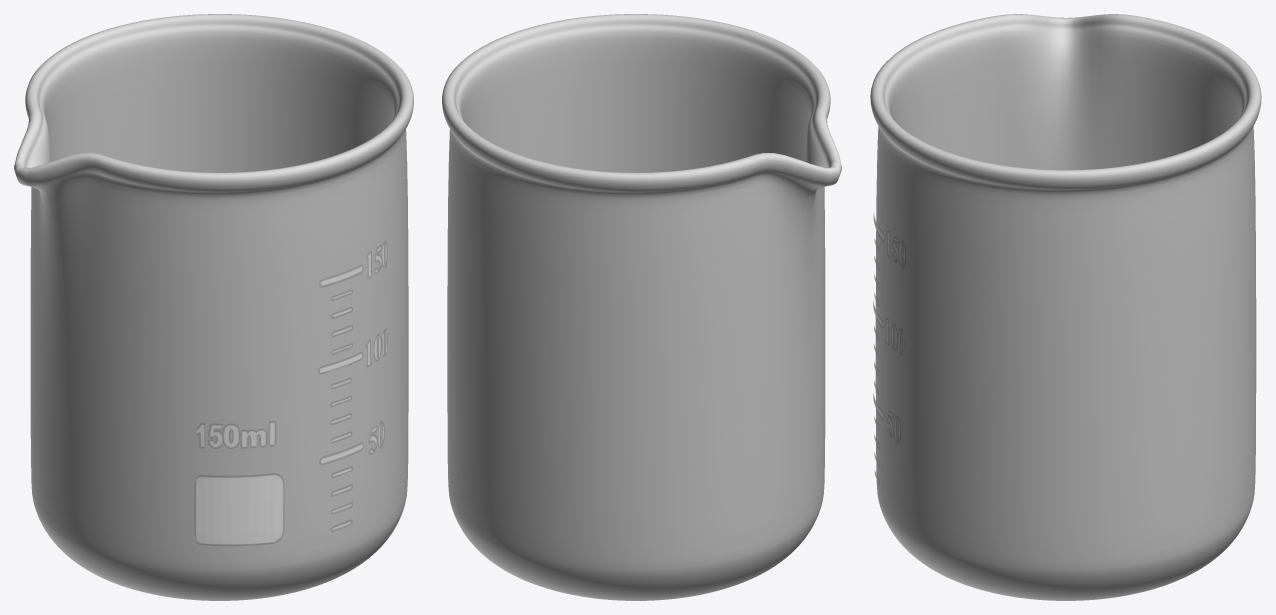
Rendered from beaker.glb.
The picture shows the model from 3 angles, left to right: view 1: azimuth 30°, elevation 25°; view 2: azimuth 150°, elevation 25°; view 3: azimuth 270°, elevation 25°; orthographic projection.
Visible parts, largest first — view 1: Circle_0, Plane_1; view 2: Circle_0; view 3: Circle_0, Plane_1.
Boxes of the visible parts, x1=… form: Circle_0: x1=14, y1=14, x2=413, y2=600; Plane_1: x1=195, y1=241, x2=387, y2=545; Circle_0: x1=442, y1=14, x2=841, y2=600; Circle_0: x1=870, y1=14, x2=1261, y2=600; Plane_1: x1=873, y1=213, x2=905, y2=484.
Size of the model in its own units: 7.25 by 8.4 by 6.56.
2 materials, 1 textured.
